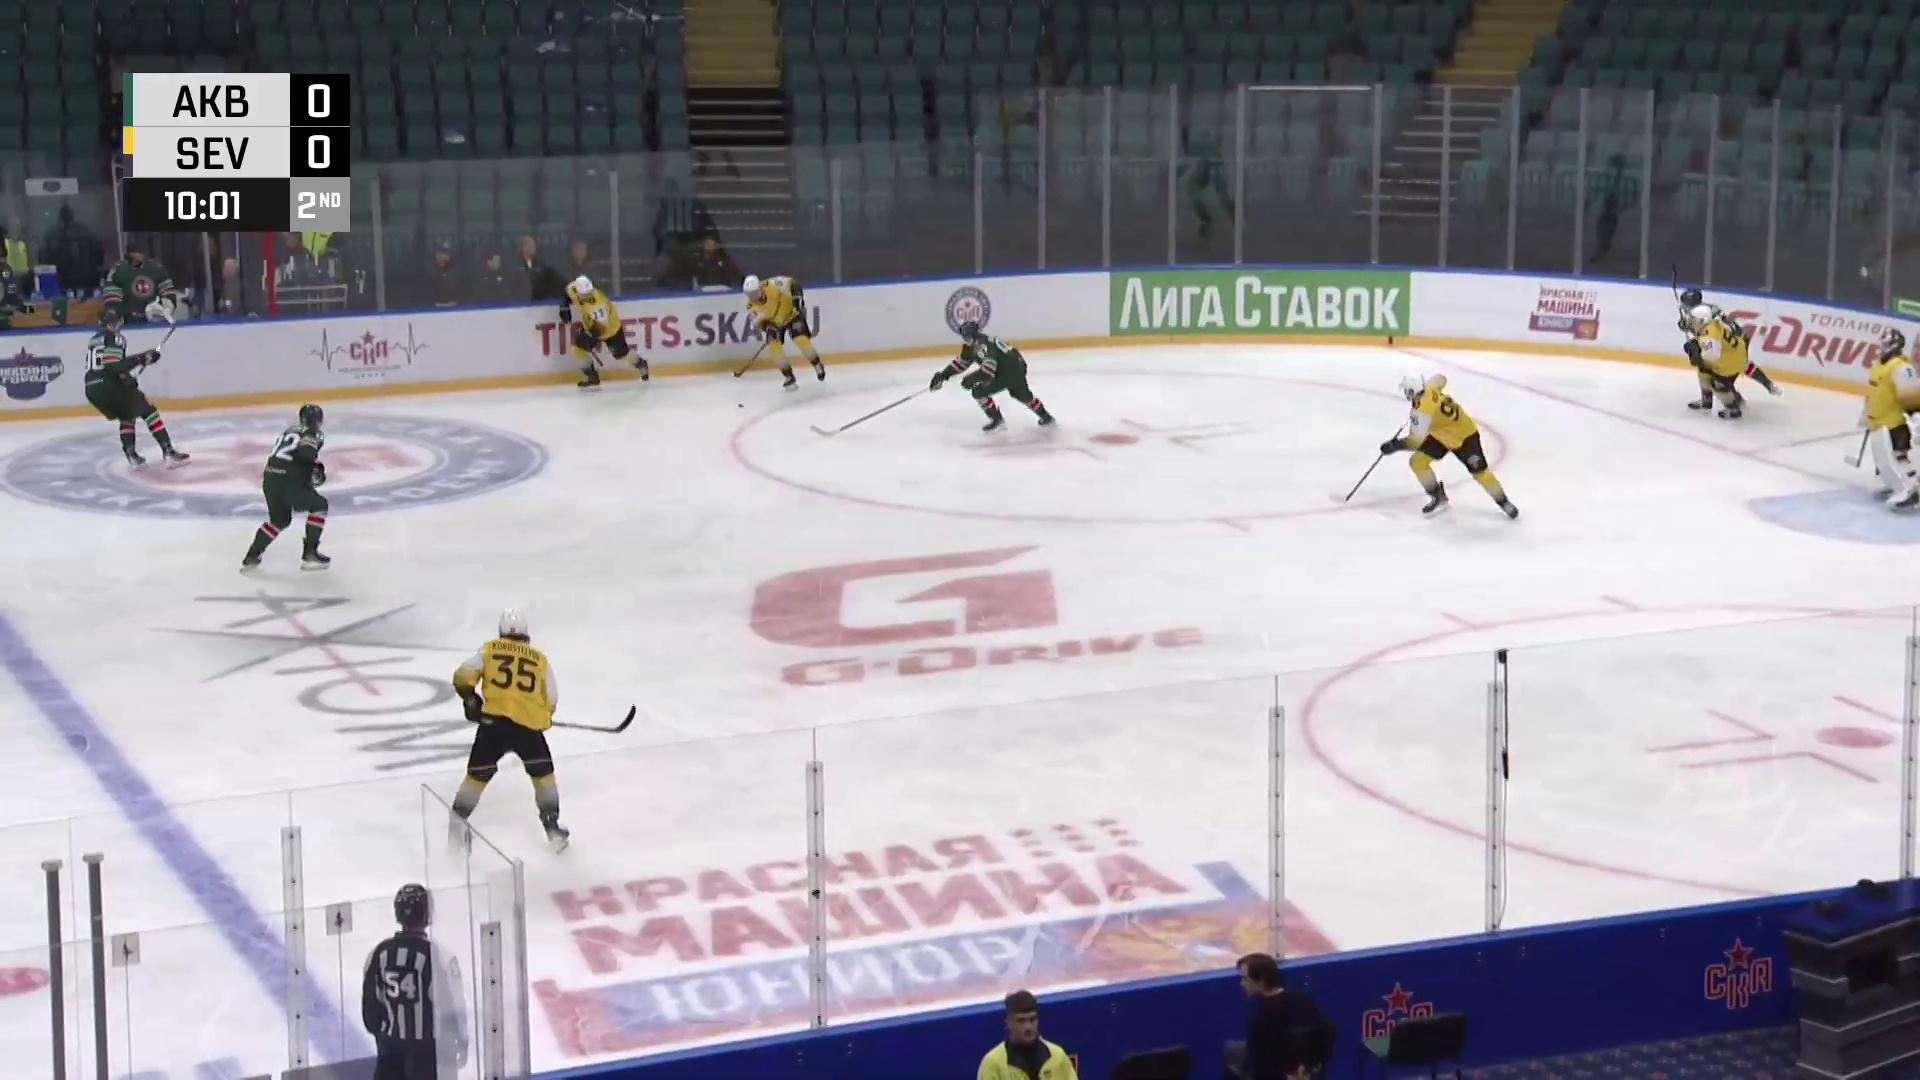ball: (737, 404, 745, 409)
